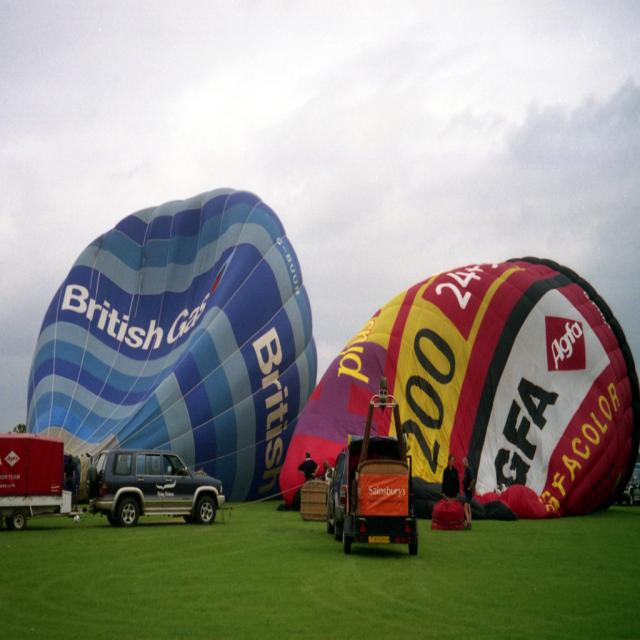car: (88, 447, 225, 528)
